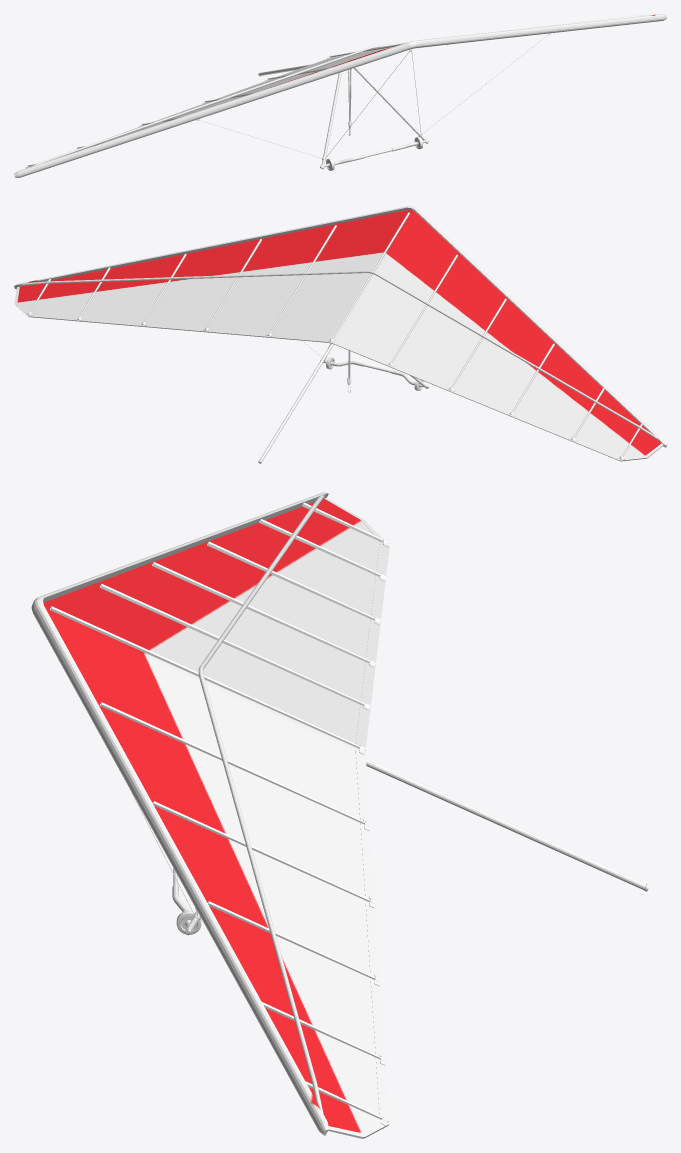
3 renders of one model, top to bottom at view 1: azimuth 30°, elevation 25°; view 2: azimuth 150°, elevation 25°; view 3: azimuth 270°, elevation 25°, orthographic. The views are drawn at different scales.
Visible parts, largest first — view 1: 1-_SteelShader, 3-_SailsShader, 2-_RubberShader; view 2: 3-_SailsShader, 1-_SteelShader; view 3: 3-_SailsShader, 1-_SteelShader.
Part boxes in pixels (bbox=[...]): 1-_SteelShader: bbox=[14, 14, 666, 177]; 3-_SailsShader: bbox=[88, 48, 416, 147]; 2-_RubberShader: bbox=[326, 69, 422, 170]; 3-_SailsShader: bbox=[17, 210, 661, 456]; 1-_SteelShader: bbox=[14, 206, 666, 463]; 3-_SailsShader: bbox=[43, 498, 379, 1132]; 1-_SteelShader: bbox=[31, 492, 649, 1138].
Size of the model in its own units: 436 by 93.11 by 179.
3 materials, 3 textured.
